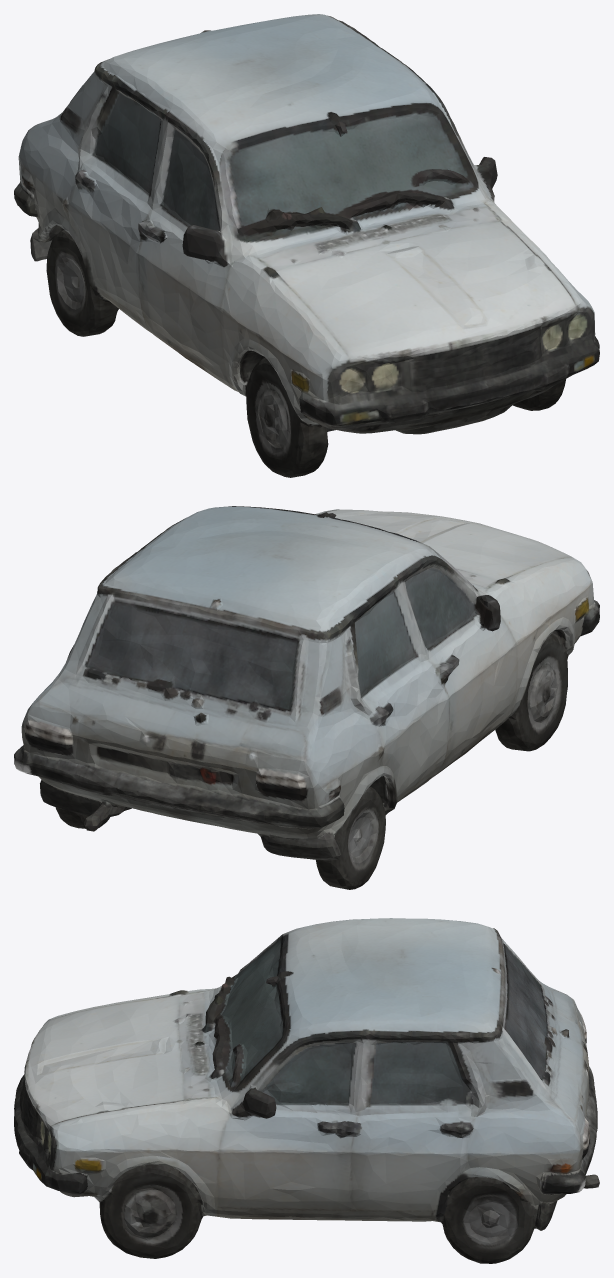
Rendered from dacia.fbx.
3 renders of one model, top to bottom at view 1: azimuth 30°, elevation 25°; view 2: azimuth 150°, elevation 25°; view 3: azimuth 270°, elevation 25°, orthographic. The views are drawn at different scales.
Parts seen in each view (by area): view 1: Mesh_0; view 2: Mesh_0; view 3: Mesh_0.
Boxes of the visible parts, box(x1,y1,x2,y2) form: Mesh_0: box(14, 14, 599, 477); Mesh_0: box(14, 506, 599, 889); Mesh_0: box(14, 918, 599, 1263).
Size of the model in its own units: 1.75 by 1.44 by 3.14.
Materials: 1 (1 with a texture image).
